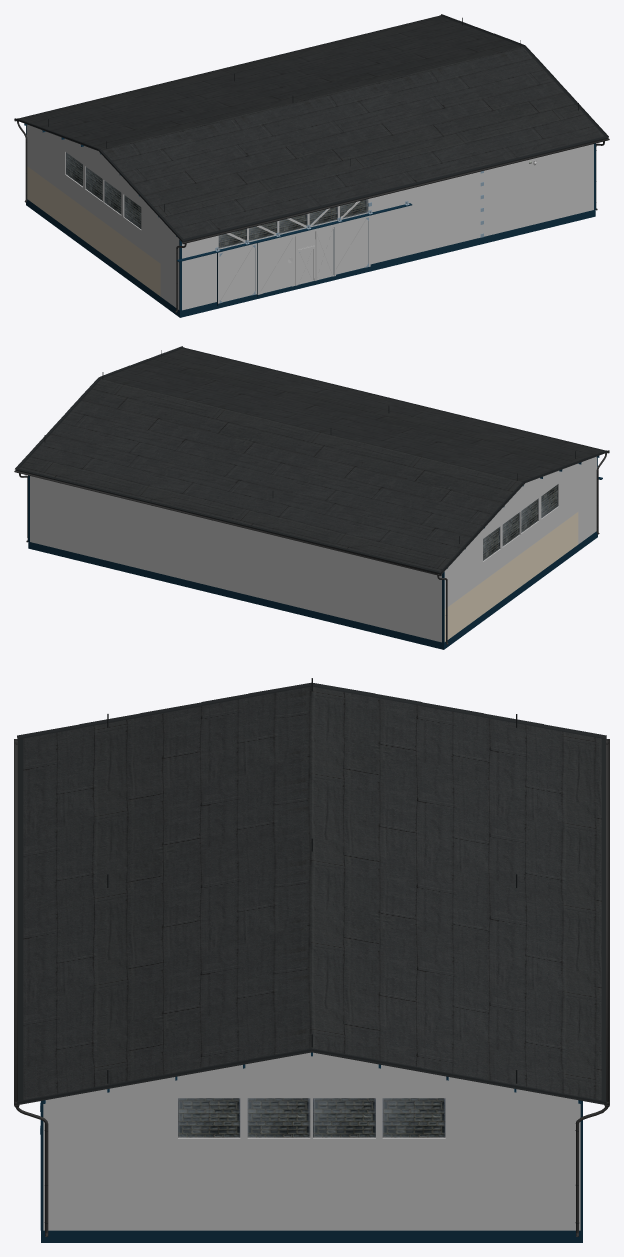
File: edap-hangar-a_LOD00.gltf
3 renders of one model, top to bottom at view 1: azimuth 30°, elevation 25°; view 2: azimuth 150°, elevation 25°; view 3: azimuth 270°, elevation 25°, orthographic. The views are drawn at different scales.
Parts seen in each view (by area): view 1: roof, walls, door LL, door CL, hangar windows, door CR, door RR, hangar windows.001, rims, gutter L, rust decal, door CR rust; view 2: roof, walls, hangar windows.001, rims, gutter R; view 3: roof, walls, hangar windows.002, rims, gutter L, gutter R.
Part boxes in pixels (<box>): roof: <box>16,16,608,242</box>; walls: <box>26,124,595,317</box>; door LL: <box>217,245,256,305</box>; door CL: <box>257,237,296,297</box>; hangar windows: <box>218,199,368,248</box>; door CR: <box>296,227,335,287</box>; door RR: <box>336,217,370,277</box>; hangar windows.001: <box>66,152,141,228</box>; rims: <box>14,14,608,241</box>; gutter L: <box>182,138,609,243</box>; rust decal: <box>217,199,369,249</box>; door CR rust: <box>296,224,335,285</box>; roof: <box>15,348,607,574</box>; walls: <box>28,456,602,649</box>; hangar windows.001: <box>483,484,557,560</box>; rims: <box>15,346,609,573</box>; gutter R: <box>14,470,441,575</box>; roof: <box>18,686,605,1104</box>; walls: <box>40,1052,582,1242</box>; hangar windows.002: <box>178,1098,445,1137</box>; rims: <box>17,682,606,1104</box>; gutter L: <box>14,739,19,1107</box>; gutter R: <box>604,739,609,1107</box>.
Size of what is drawn, in the model's own units: 27.26 by 7.28 by 18.69.
